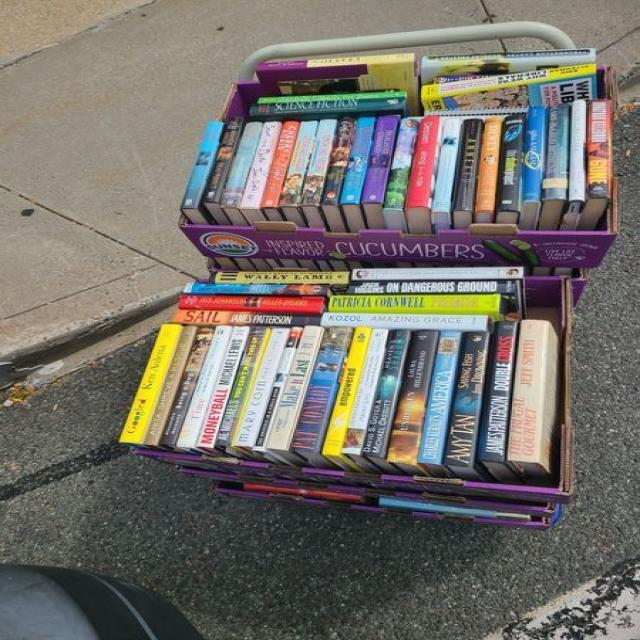book: (291, 328, 353, 452), (120, 324, 183, 443), (266, 326, 323, 451), (387, 331, 438, 464), (159, 326, 215, 444), (234, 328, 290, 445), (179, 326, 233, 446), (422, 63, 597, 100), (144, 326, 198, 445), (196, 327, 249, 448), (442, 332, 489, 467), (322, 328, 371, 456), (254, 328, 303, 451), (417, 332, 462, 465), (215, 328, 266, 445), (507, 320, 548, 462), (363, 329, 408, 458), (342, 328, 388, 454), (478, 321, 517, 462), (180, 121, 223, 210), (221, 122, 263, 209), (240, 122, 282, 209), (203, 117, 244, 203), (360, 115, 399, 203), (383, 118, 420, 210), (278, 121, 318, 206), (422, 47, 597, 66), (404, 116, 440, 208), (261, 121, 299, 207), (328, 294, 500, 312), (301, 119, 336, 207), (340, 117, 375, 204), (320, 313, 487, 331), (322, 118, 356, 206), (430, 119, 462, 212), (252, 97, 406, 116), (257, 54, 417, 72), (454, 118, 482, 213), (541, 104, 569, 199), (497, 114, 523, 211), (521, 106, 547, 202), (476, 118, 502, 212), (170, 310, 321, 326), (348, 280, 515, 294), (352, 267, 522, 280), (177, 296, 323, 311), (589, 101, 611, 198), (184, 283, 329, 296), (570, 100, 587, 202), (208, 272, 349, 284)
